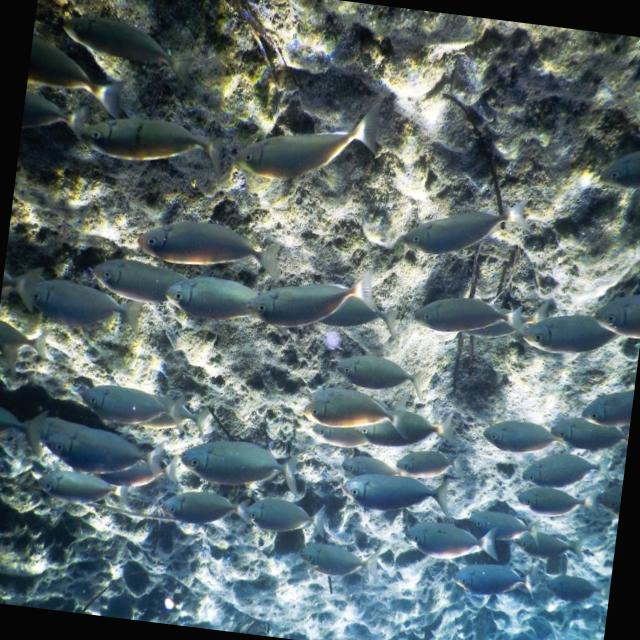Sokar Baligi: (226, 67, 390, 202), (388, 174, 516, 276), (173, 421, 306, 500)
